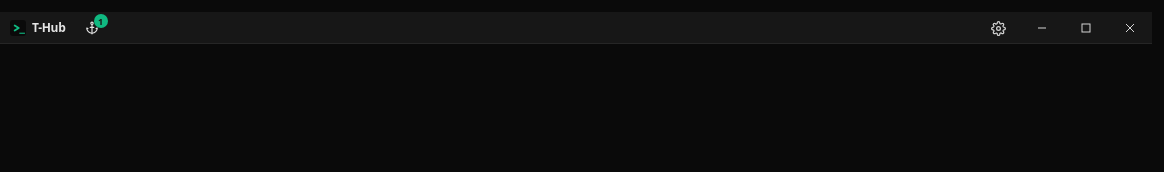
captain anchor dropdown (portal) › mounts the menu under document.body, OUTSIDE the titlebar subtree
Click the button named "Captain menu".
click(92, 28)  # box [74,12,110,44]
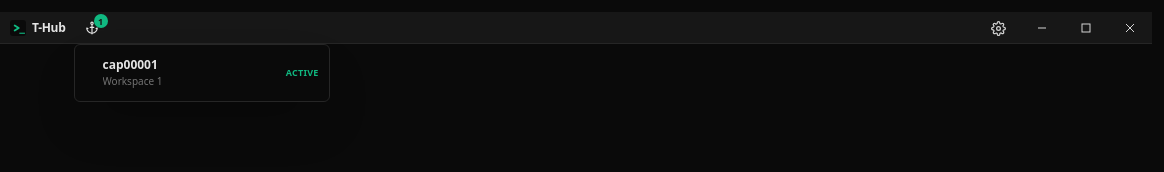
Expected: the number of menu items is 1, [74,49,328,97]
